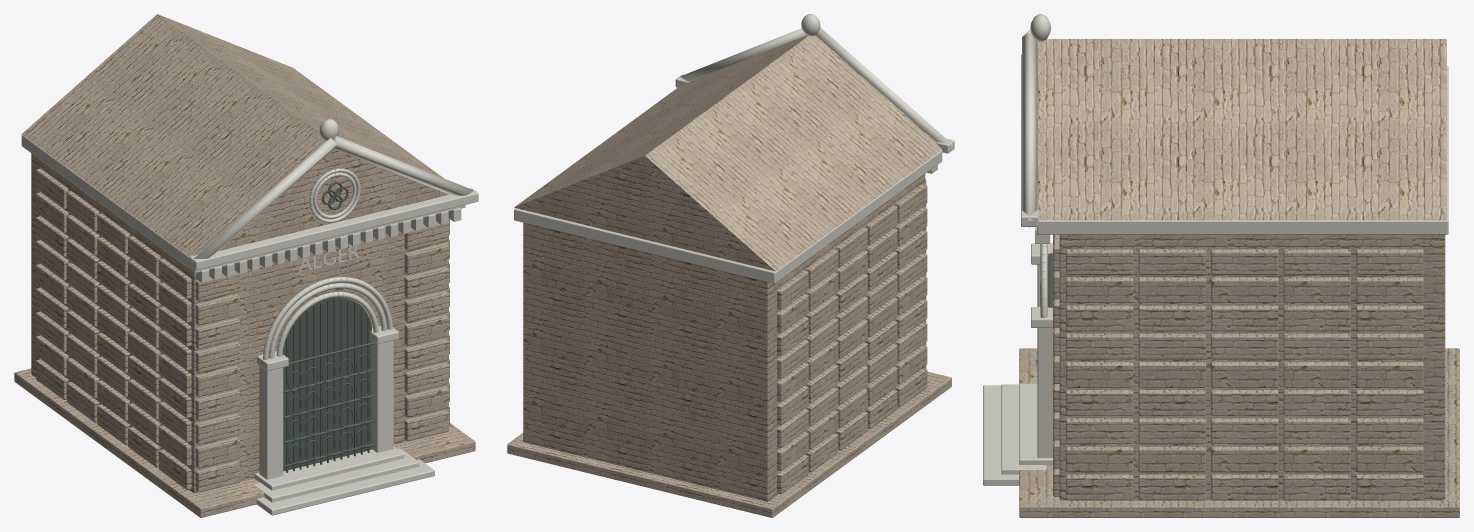
File: alger-mausoleum.glb
3 renders of one model, left to right at view 1: azimuth 30°, elevation 25°; view 2: azimuth 150°, elevation 25°; view 3: azimuth 270°, elevation 25°, orthographic. The views are drawn at different scales.
Visible parts, largest first — view 1: alger-mausoleum Alger weathered limestone, alger-mausoleum Alger dressed limestone, alger-mausoleum Alger stone shadow, alger-mausoleum Alger bronze grille; view 2: alger-mausoleum Alger weathered limestone, alger-mausoleum Alger dressed limestone; view 3: alger-mausoleum Alger weathered limestone, alger-mausoleum Alger dressed limestone.
Part boxes in pixels (x1,y1,x2,y2): alger-mausoleum Alger weathered limestone: (14,14,475,517); alger-mausoleum Alger dressed limestone: (21,119,478,515); alger-mausoleum Alger stone shadow: (282,182,371,471); alger-mausoleum Alger bronze grille: (283,298,373,472); alger-mausoleum Alger weathered limestone: (507,35,951,517); alger-mausoleum Alger dressed limestone: (514,14,954,283); alger-mausoleum Alger weathered limestone: (1019,39,1459,517); alger-mausoleum Alger dressed limestone: (983,14,1448,485).
Size of the model in its own units: 6.01 by 7.22 by 7.36.
4 materials, 1 textured.
